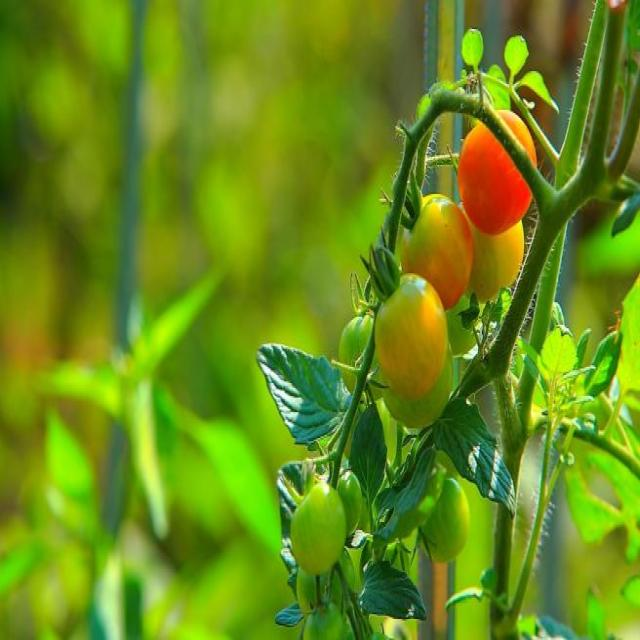level 1: (330, 458, 369, 534)
level 2: (378, 340, 472, 441), (283, 468, 357, 586), (335, 301, 384, 409)
level 3: (404, 464, 476, 575)
level 4: (442, 195, 536, 328), (390, 185, 477, 325), (360, 276, 449, 403)
level 6: (440, 104, 554, 228)
